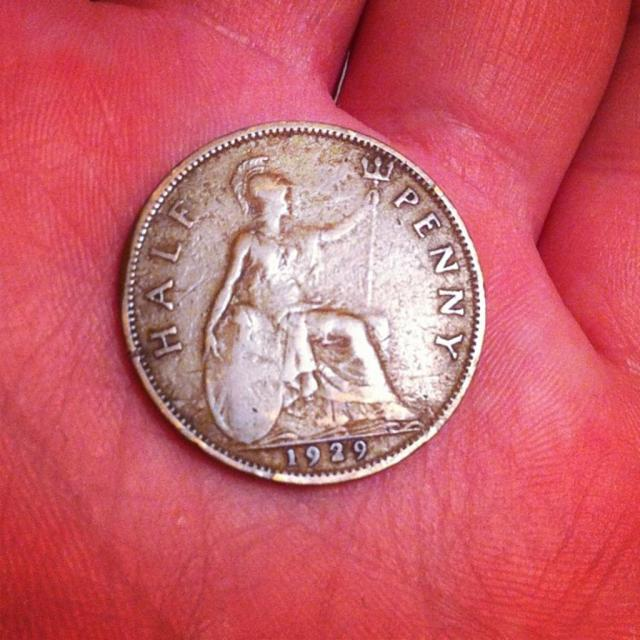Coin: (118, 114, 483, 489)
